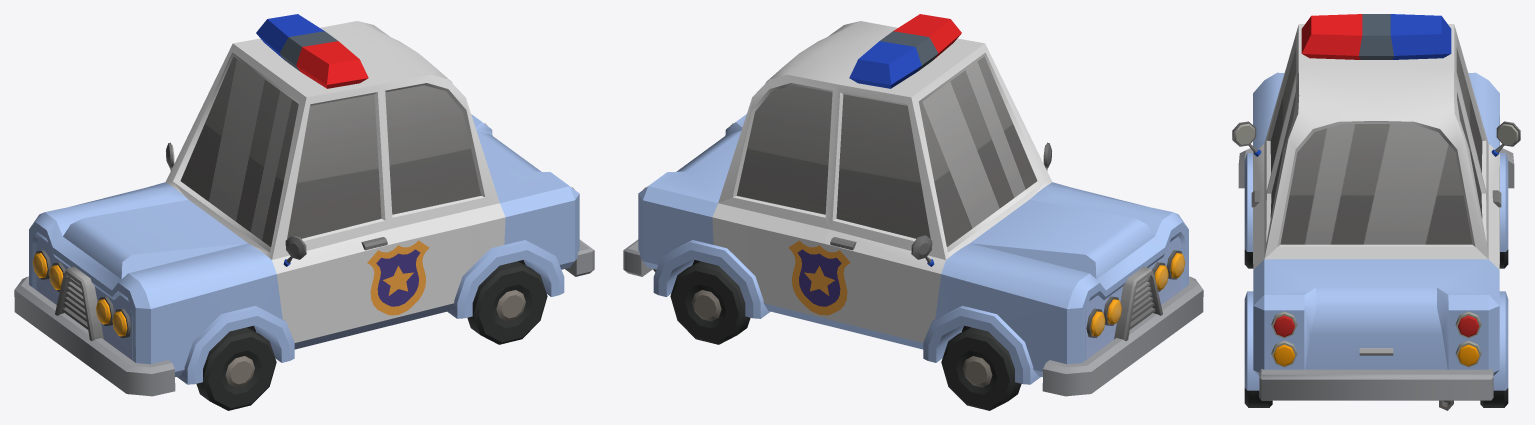
File: Car_Police_4_B_2.fbx
The picture shows the model from 3 angles, left to right: view 1: azimuth 30°, elevation 25°; view 2: azimuth 150°, elevation 25°; view 3: azimuth 270°, elevation 25°; orthographic projection. The views are drawn at different scales.
Visible parts, largest first — view 1: Car_Police_4_B_2, RL, FL; view 2: Car_Police_4_B_2, RR, FR; view 3: Car_Police_4_B_2, RL, RR.
Part boxes in pixels (x1=…): Car_Police_4_B_2: x1=14, y1=14, x2=594, y2=396; RL: x1=467, y1=261, x2=547, y2=344; FL: x1=196, y1=327, x2=276, y2=410; Car_Police_4_B_2: x1=623, y1=14, x2=1203, y2=396; RR: x1=670, y1=261, x2=750, y2=344; FR: x1=941, y1=327, x2=1021, y2=410; Car_Police_4_B_2: x1=1232, y1=14, x2=1520, y2=410; RL: x1=1244, y1=388, x2=1272, y2=407; RR: x1=1480, y1=388, x2=1508, y2=407.
Size of the model in its own units: 3.36 by 2 by 1.7.
